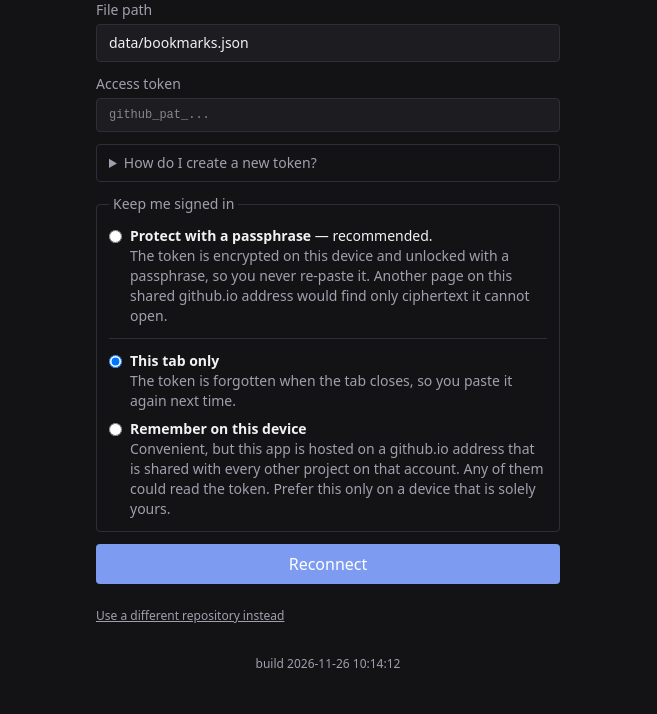
Setup — reconnect rather than re-setup (D16) › still offers a way back to a full setup
(page scrolled)
Click the button "Use a different repository instead" at (190, 616), box left=96, top=608, right=284, bottom=624
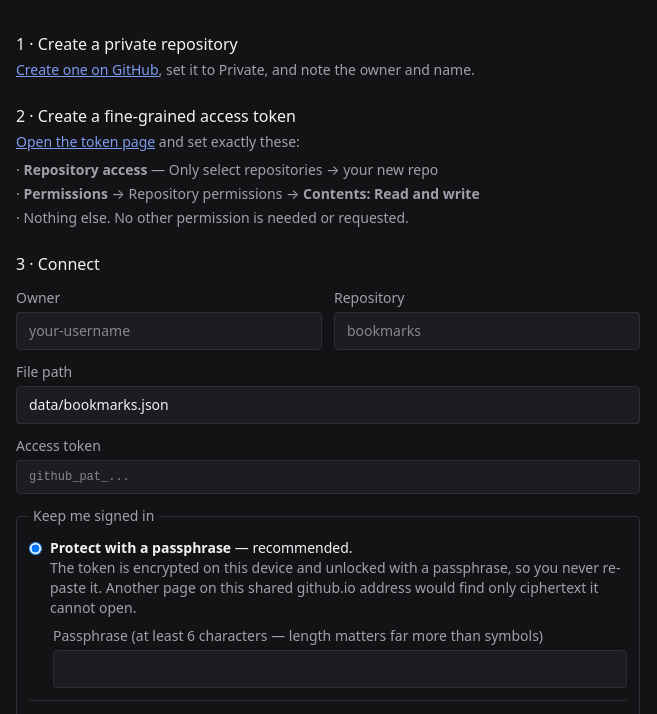
Expected: the text "Create a private repository" is shown, left=16, top=33, right=238, bottom=55
